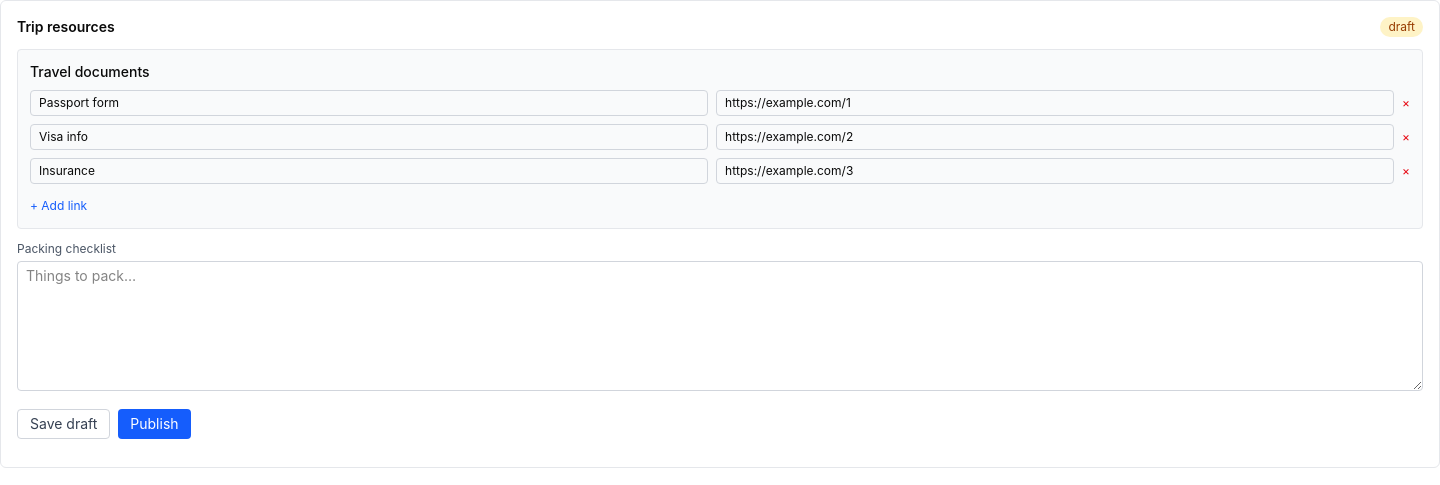
Test case: ResourcesEditor — stable link-row keys (#1813) › keeps the same DOM node (and its edited value) attached after removing an earlier row
Expected: the heading "Trip resources" is shown, [17, 17, 115, 37]
Row 2 (lIdx 1) is the one we track through the removal.
Step 1. Replace the text in the 3rd field with placeholder "Label" with "ZKQ-LINK-2" → coordinates (369, 137), box [30, 124, 708, 150]
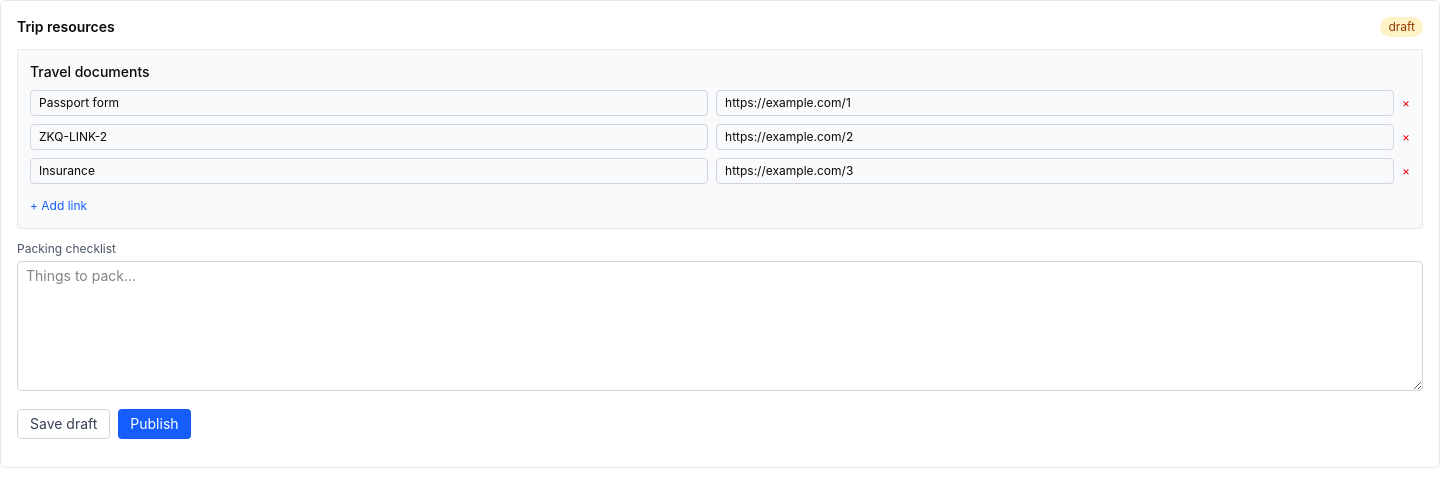
Step 2. Click the 1st button "×" → coordinates (1406, 103), box [1402, 90, 1410, 116]
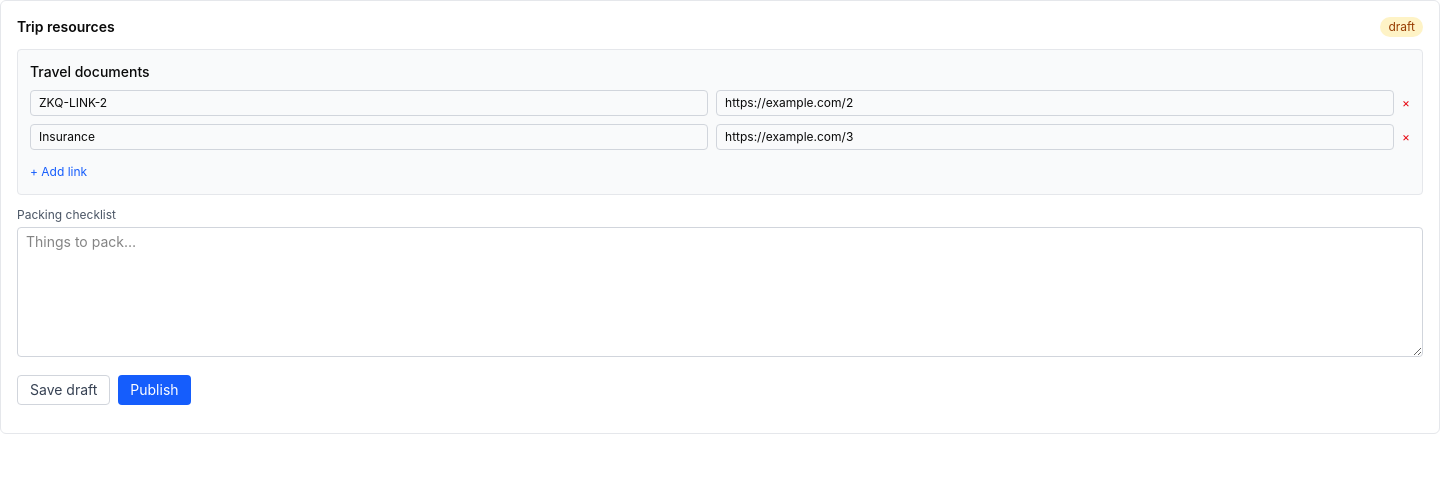
Expected: the number of fields with placeholder "Label" is 2, [30, 90, 708, 116]; [30, 124, 708, 150]
